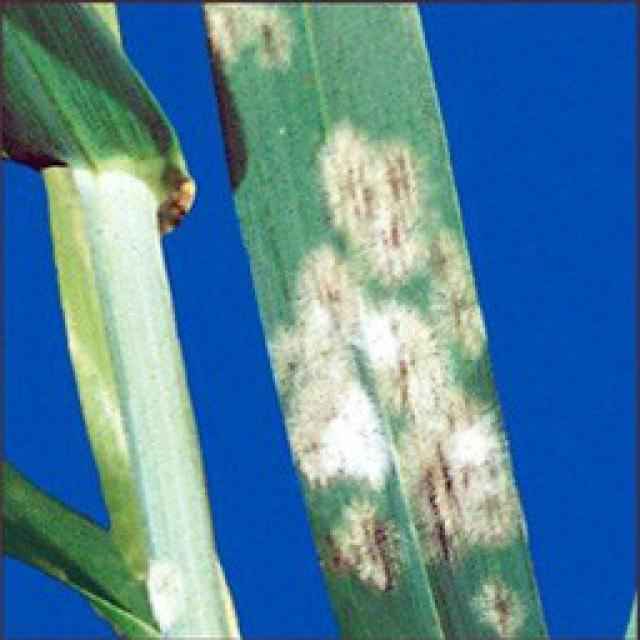wheat-powdery-mildew: (266, 119, 529, 590), (43, 167, 238, 639), (208, 1, 306, 65)
